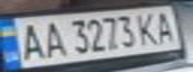2: (84, 16, 106, 53)
3: (66, 16, 90, 55), (115, 12, 139, 48)
7: (103, 15, 121, 51)
A: (12, 20, 48, 62), (36, 18, 69, 60), (151, 8, 178, 44)
K: (133, 10, 163, 46)
